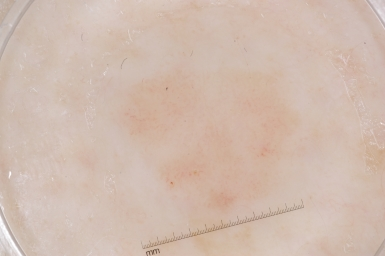seborrheic keratosis: (111, 56, 290, 208)
